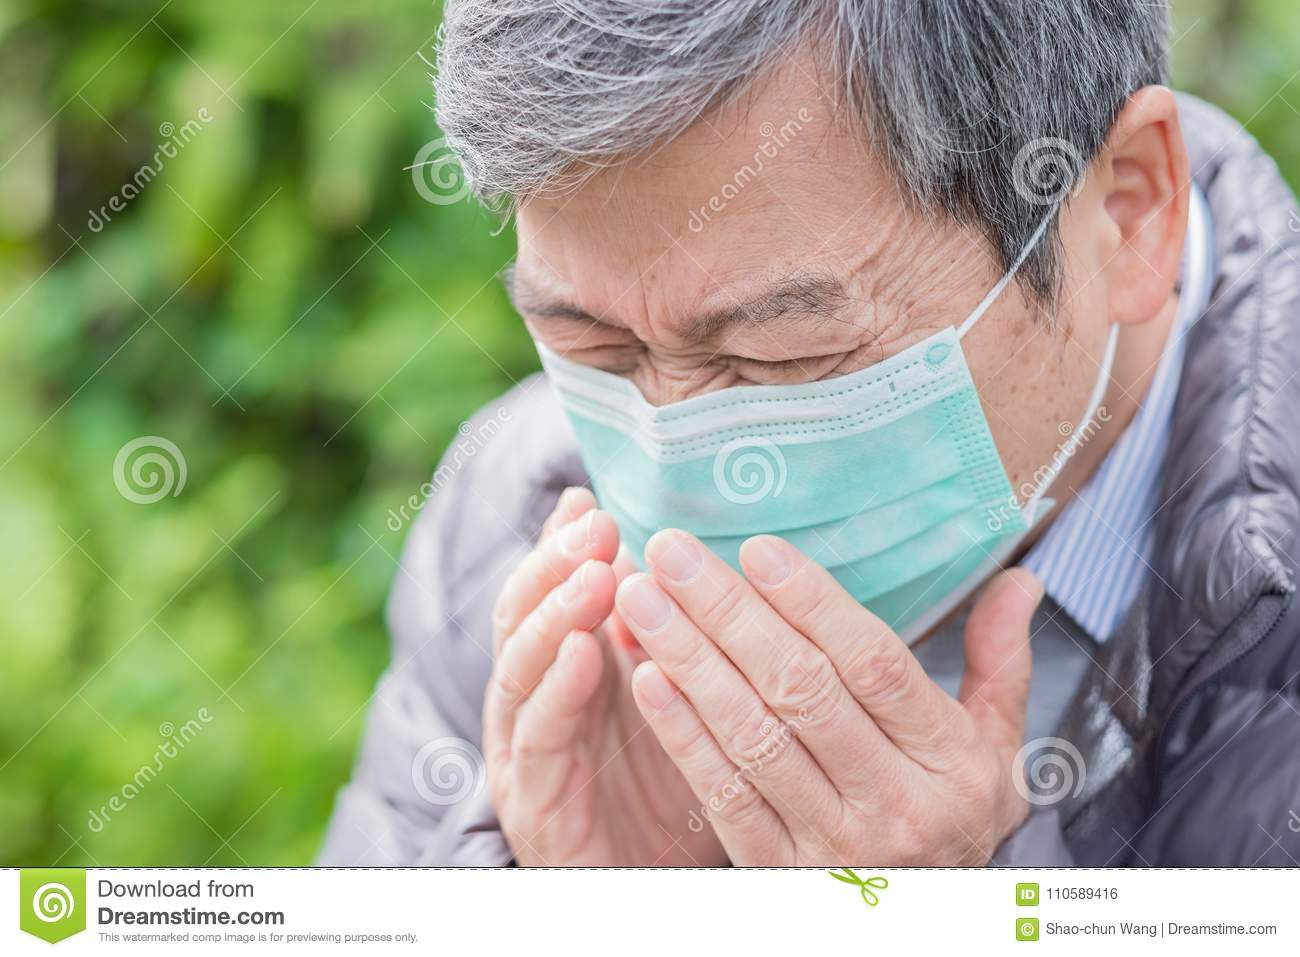mask: (535, 324, 1055, 672)
